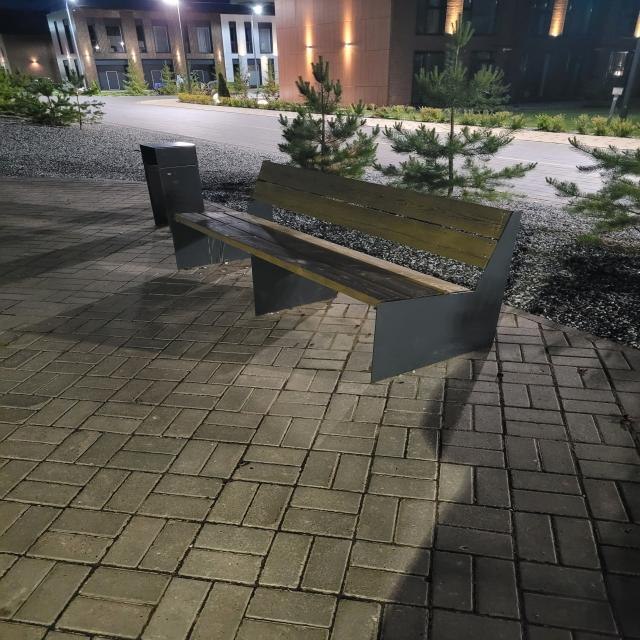Bench: (169, 160, 522, 383)
